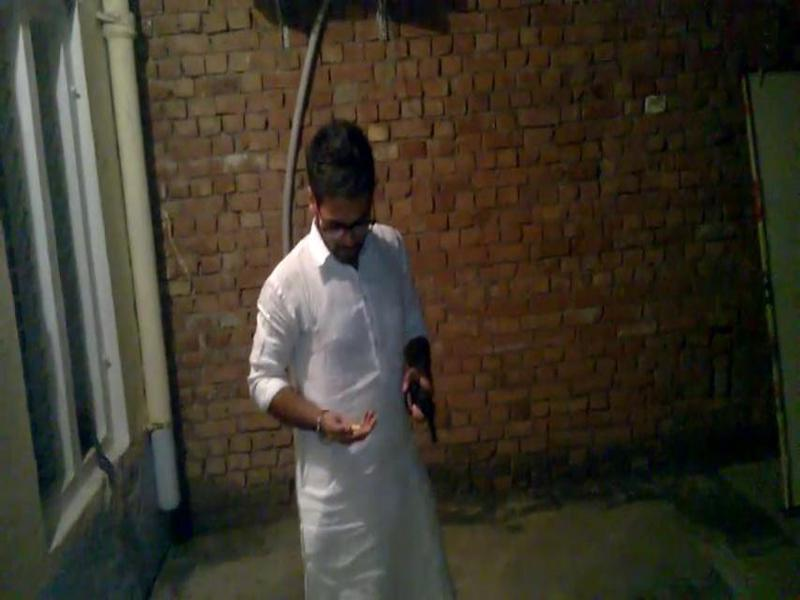Revolver: (391, 365, 447, 469)
